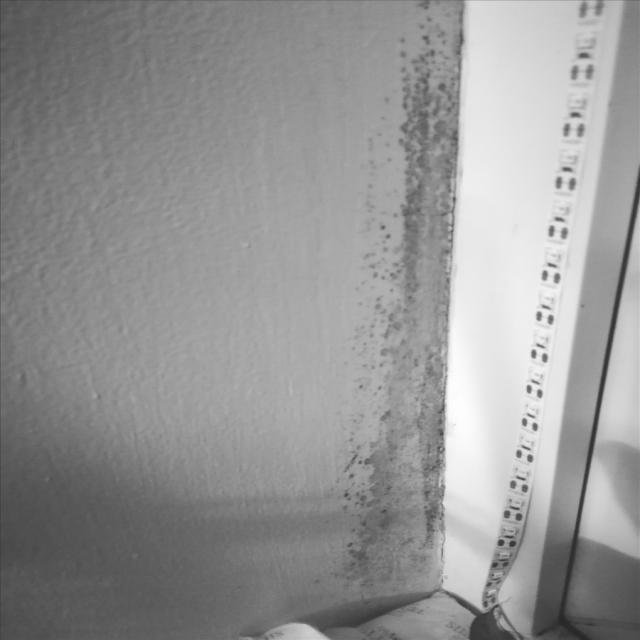stain marks: (284, 0, 483, 629)
